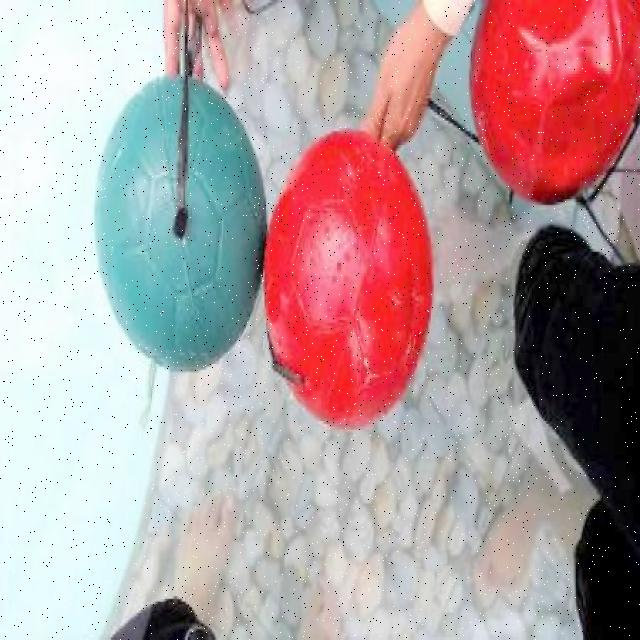buoy: (262, 127, 434, 430), (94, 74, 263, 370), (469, 0, 640, 205)
